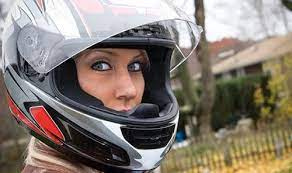helmets: (0, 0, 200, 173)
